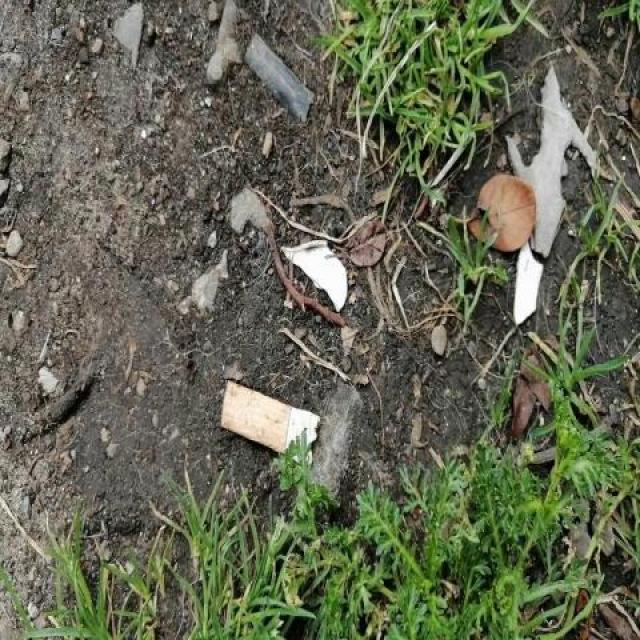non-organic waste: (217, 376, 324, 472)
